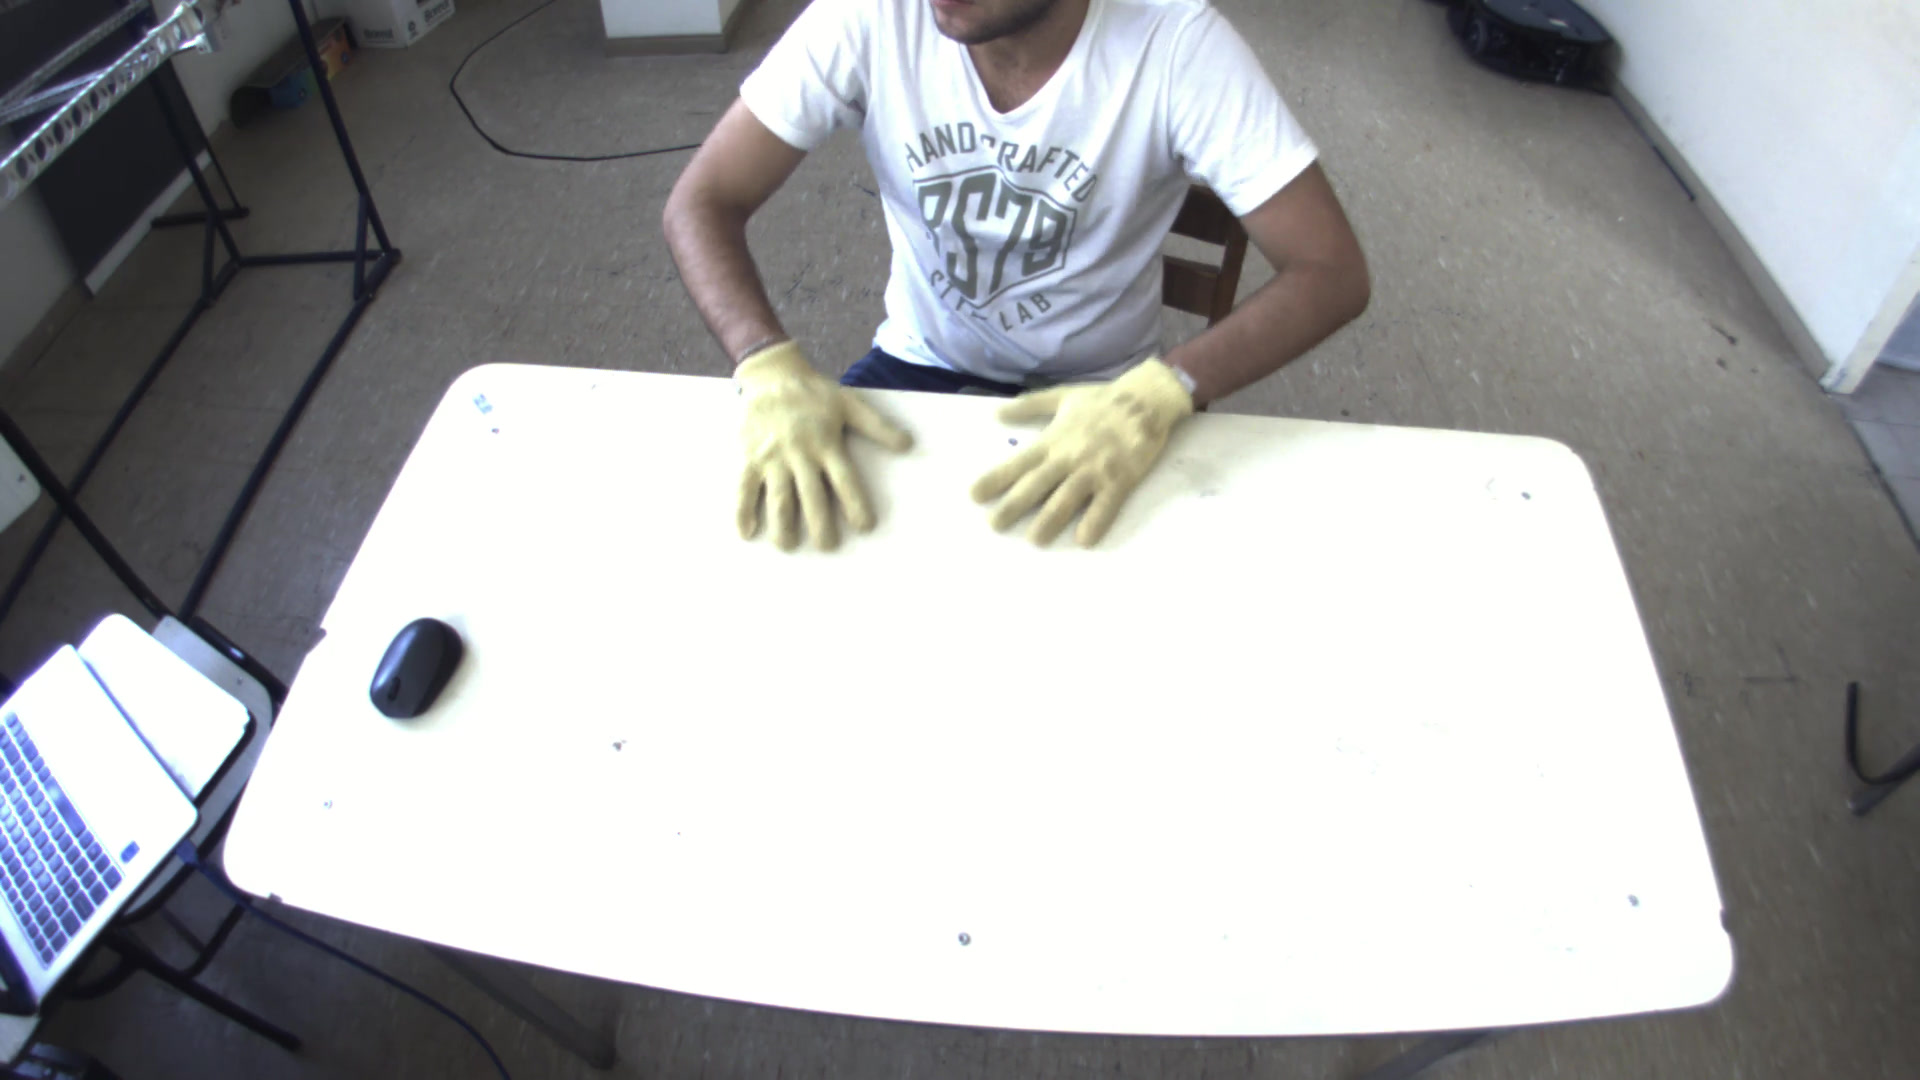hand: (963, 338, 1195, 558), (717, 322, 924, 559)
